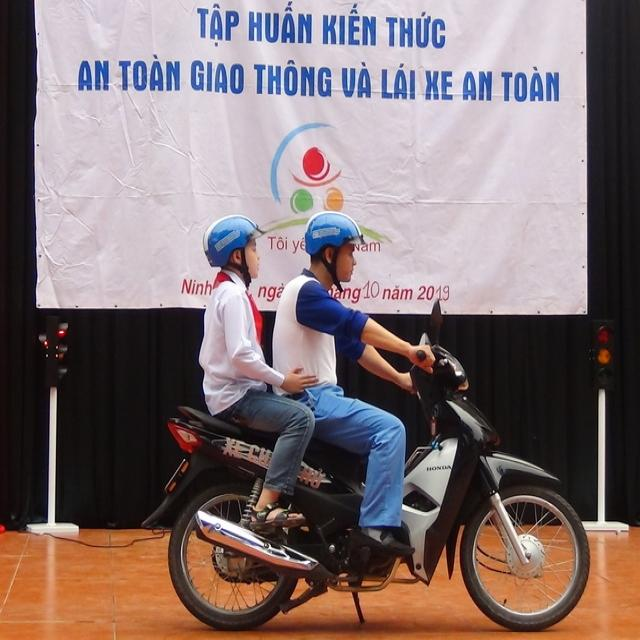helmet: (203, 214, 269, 268), (305, 210, 367, 255)
